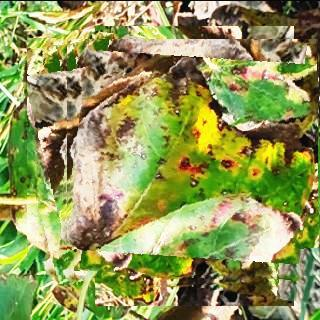blight: (67, 38, 320, 293), (27, 36, 176, 280)
